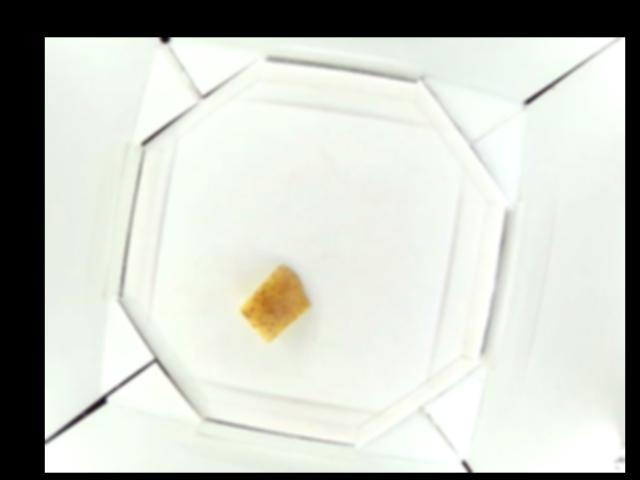Potato: (236, 264, 310, 340)
